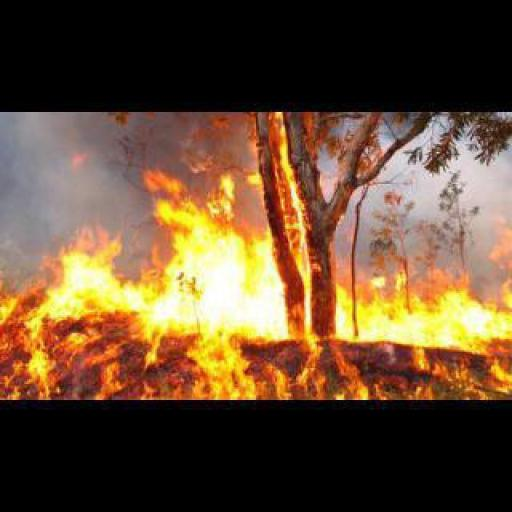smoke: (5, 115, 509, 397)
